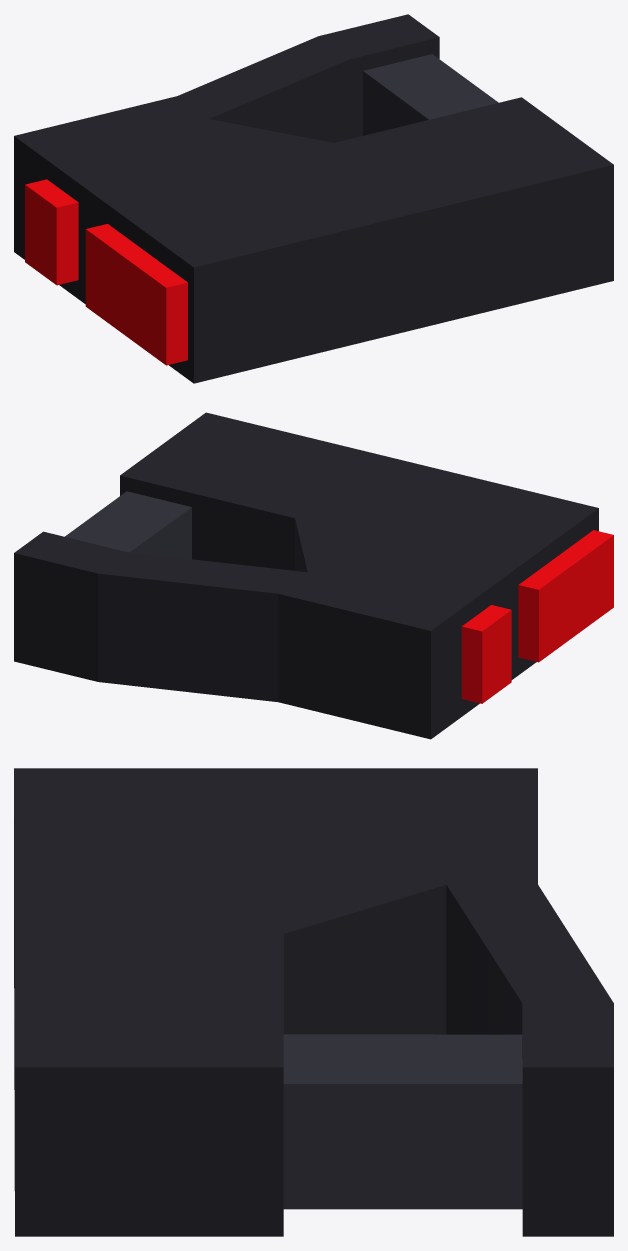
File: Gun 01.FBX
3 views of the same model, one above another, from view 1: azimuth 30°, elevation 25°; view 2: azimuth 150°, elevation 25°; view 3: azimuth 270°, elevation 25° (orthographic). The views are drawn at different scales.
Parts seen in each view (by area): view 1: Gun 01; view 2: Gun 01; view 3: Gun 01.
Part boxes in pixels (x1,y1,x2,y2): Gun 01: [14, 14, 613, 383]; Gun 01: [14, 412, 613, 739]; Gun 01: [14, 768, 613, 1236].
Size of the model in its own units: 22.99 by 5.77 by 18.54.
